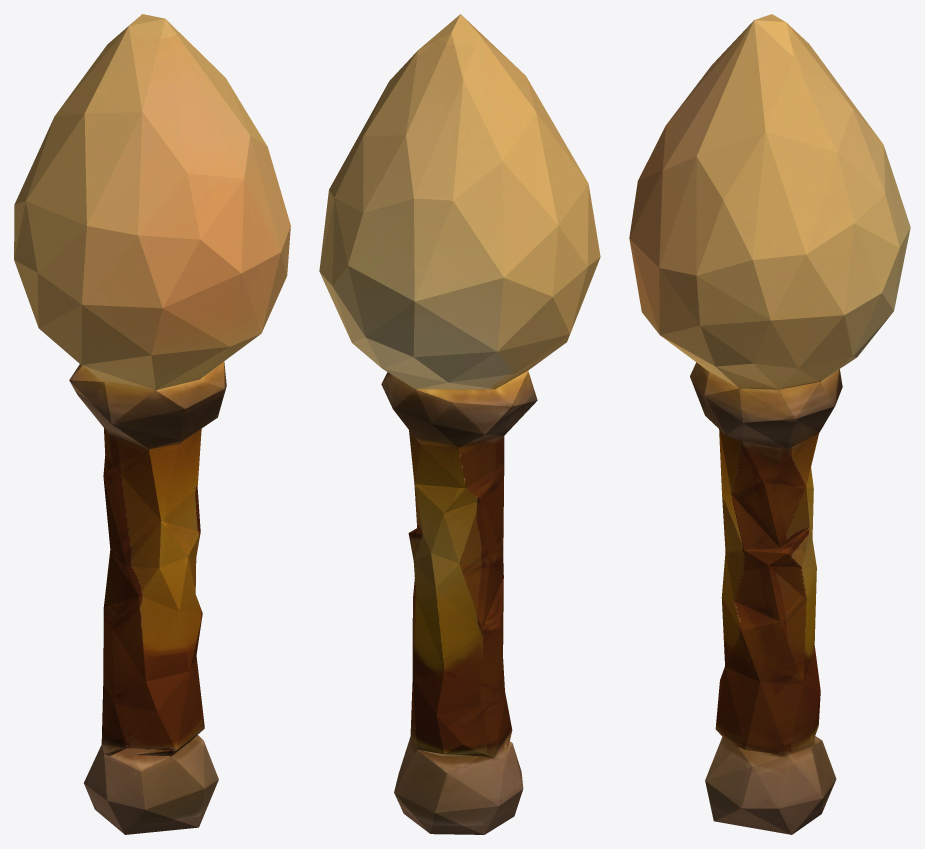
The model's file is magic_wand.glb.
3 renders of one model, left to right at view 1: azimuth 30°, elevation 25°; view 2: azimuth 150°, elevation 25°; view 3: azimuth 270°, elevation 25°, orthographic.
Parts seen in each view (by area): view 1: TexturedMesh_.obj; view 2: TexturedMesh_.obj; view 3: TexturedMesh_.obj.
Boxes of the visible parts, x1,y1,x2,y2 form: TexturedMesh_.obj: (14, 14, 290, 834); TexturedMesh_.obj: (319, 14, 600, 834); TexturedMesh_.obj: (629, 14, 910, 834).
Size of the model in its own units: 0.6296 by 1.97 by 0.631.
Materials: 1 (1 with a texture image).
